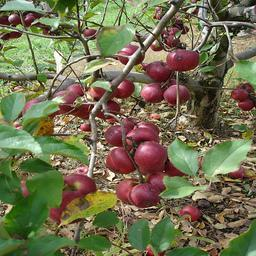apple: (133, 141, 166, 173), (45, 191, 81, 219), (107, 147, 136, 173), (62, 174, 96, 196), (129, 183, 160, 206), (167, 49, 199, 70), (128, 128, 159, 146), (54, 91, 79, 112), (116, 178, 137, 202), (164, 85, 190, 104), (119, 45, 145, 63), (146, 61, 170, 80), (105, 126, 129, 145), (140, 83, 165, 101), (112, 80, 135, 99), (178, 205, 199, 221), (80, 27, 97, 39), (232, 88, 248, 98), (238, 99, 254, 109), (7, 13, 20, 24)
